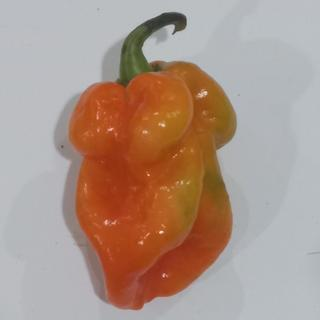Grade-A: (65, 57, 240, 313)
